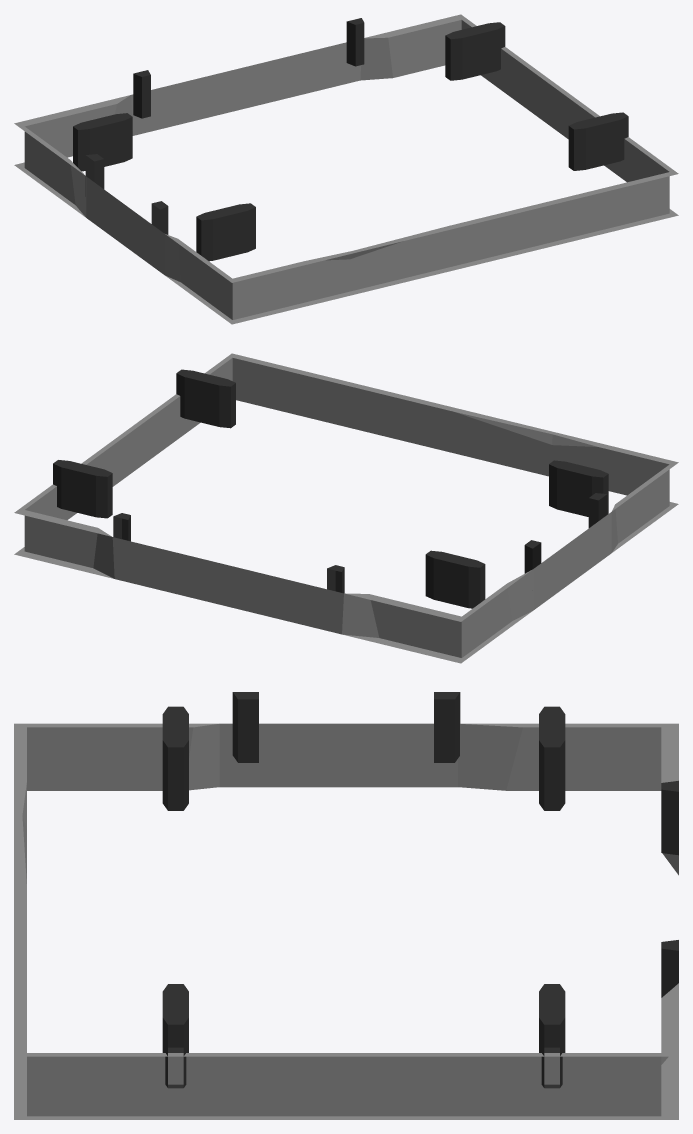
File: SW_ENV_Elevator_Shaft_InterFloor_ConnectorRing_FF.fbx
3 views of the same model, one above another, from view 1: azimuth 30°, elevation 25°; view 2: azimuth 150°, elevation 25°; view 3: azimuth 270°, elevation 25° (orthographic). The views are drawn at different scales.
Visible parts, largest first — view 1: SW_ENV_Elevator_Shaft_InterFloor_ConnectorRing_FF; view 2: SW_ENV_Elevator_Shaft_InterFloor_ConnectorRing_FF; view 3: SW_ENV_Elevator_Shaft_InterFloor_ConnectorRing_FF.
Boxes of the visible parts, <box> form: SW_ENV_Elevator_Shaft_InterFloor_ConnectorRing_FF: <box>14,14,678,324</box>; SW_ENV_Elevator_Shaft_InterFloor_ConnectorRing_FF: <box>14,353,678,663</box>; SW_ENV_Elevator_Shaft_InterFloor_ConnectorRing_FF: <box>14,692,678,1119</box>.
Bounding box in the file's own units: 450 × 60 × 380.
